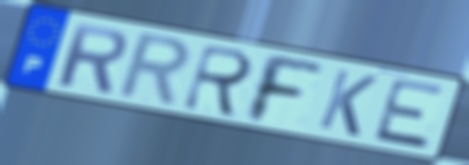E: (370, 76, 450, 152)
F: (245, 50, 326, 126)
K: (314, 66, 381, 140)
R: (112, 30, 194, 111), (179, 42, 257, 121), (54, 20, 130, 96)
